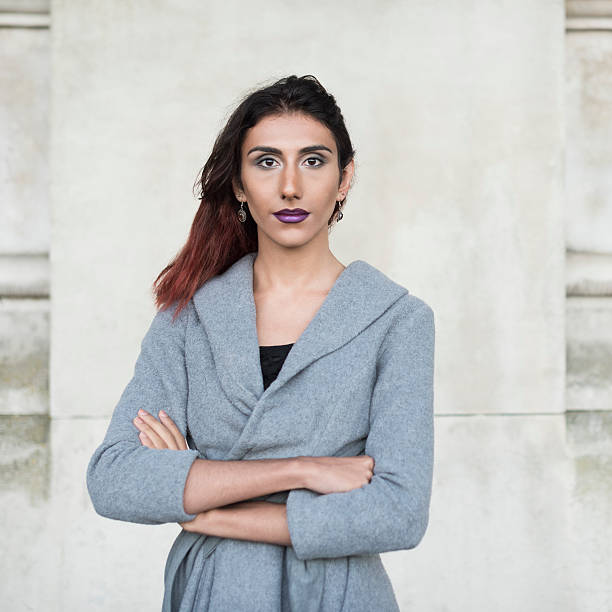face: (245, 127, 338, 245)
